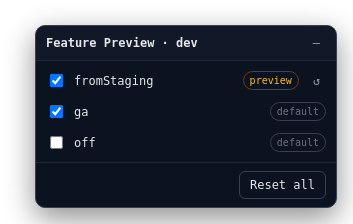
Test case: mountPreviewPanel › Reset all clears every override
Click the button "Reset all". click: coordinates (282, 185)
box: [239,171,326,199]
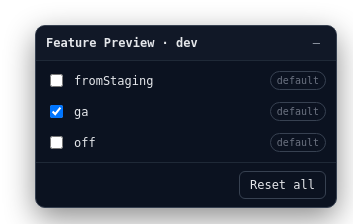
Result: the checkbox labelled "fromStaging default" is not checked at [50,74,63,87]
